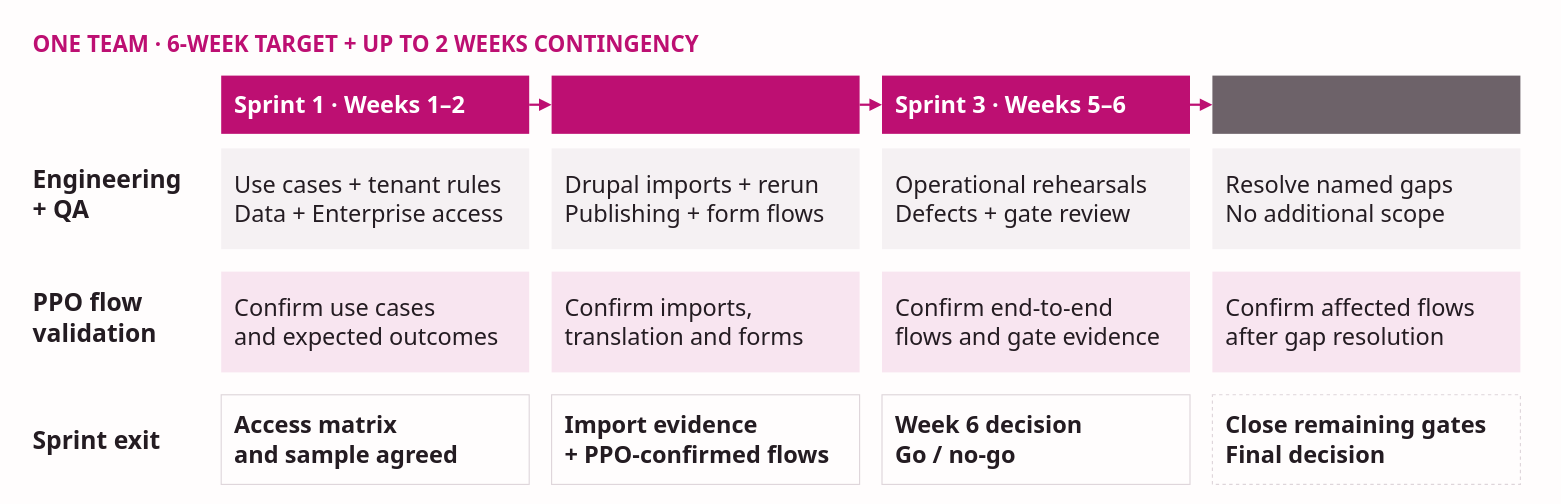
Image size: 1561x504. Some labels were removed from this diagram. Here are the shapes that lost their labels. From the top down, the centre of each, then its label:
At pixel 705 104: "Sprint 2 · Weeks 3–4".
At pixel 1366 104: "Optional · Weeks 7–8".
